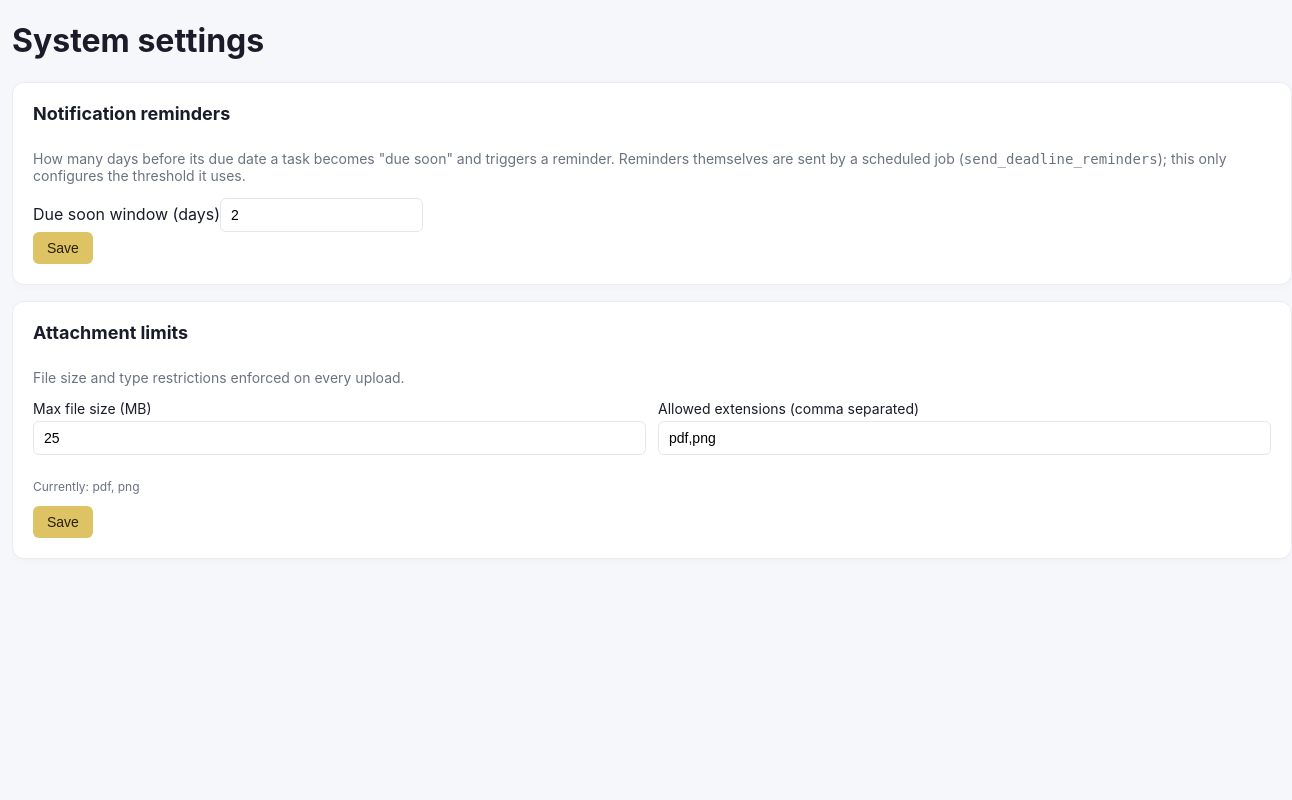
Admin configuration pages render without crashing › AdminSettings loads and saves both settings forms
expect the number field showing "25" is shown: met, box [33,421,646,455]
Step 1. Replace the text in the number field showing "2" with "5" → (322, 215), box [220,198,423,232]
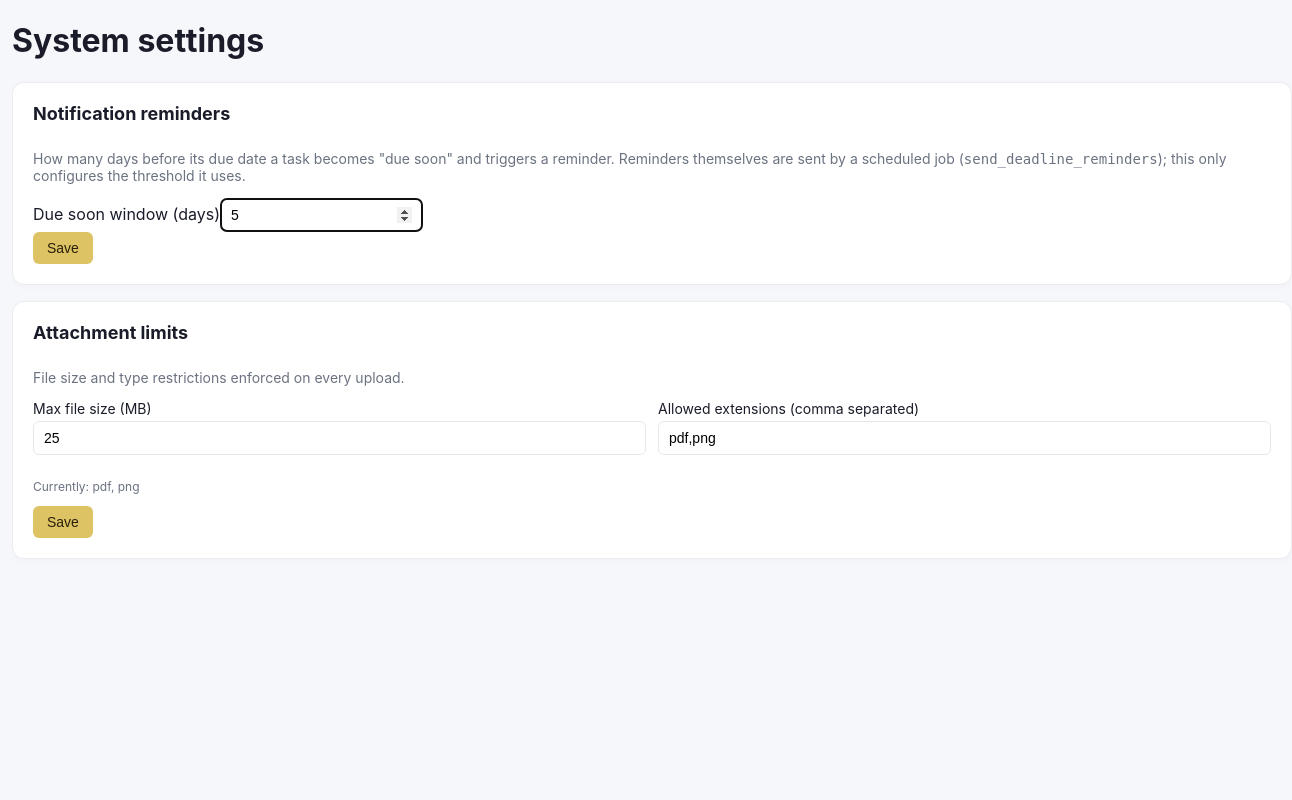
Step 2. Click the button "Save" below "Due soon window (days)" → (63, 248), box [33,232,93,264]
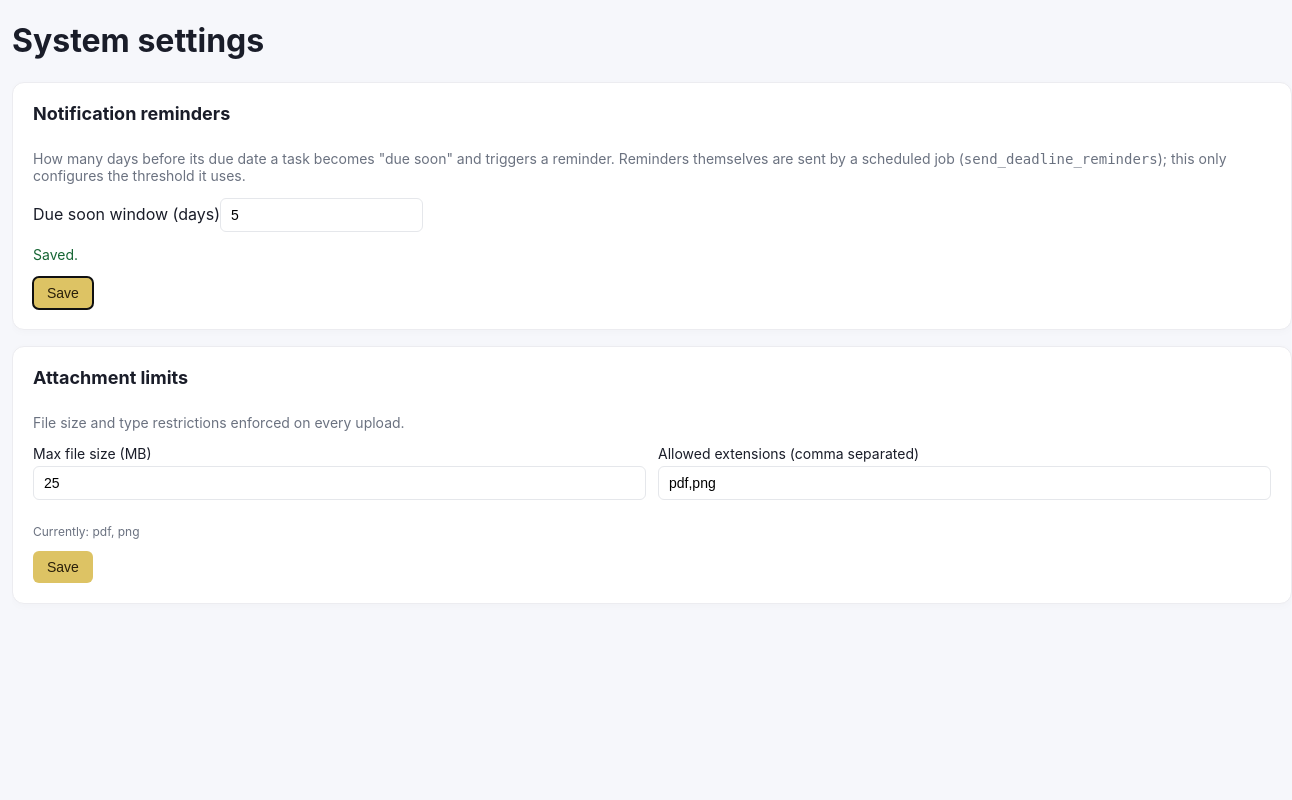
expect the text "Saved." is shown once: met, box [33,246,78,263]
